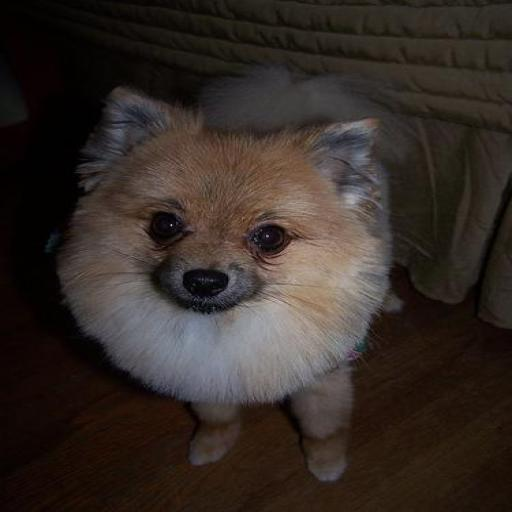dog_face: (93, 98, 375, 314)
